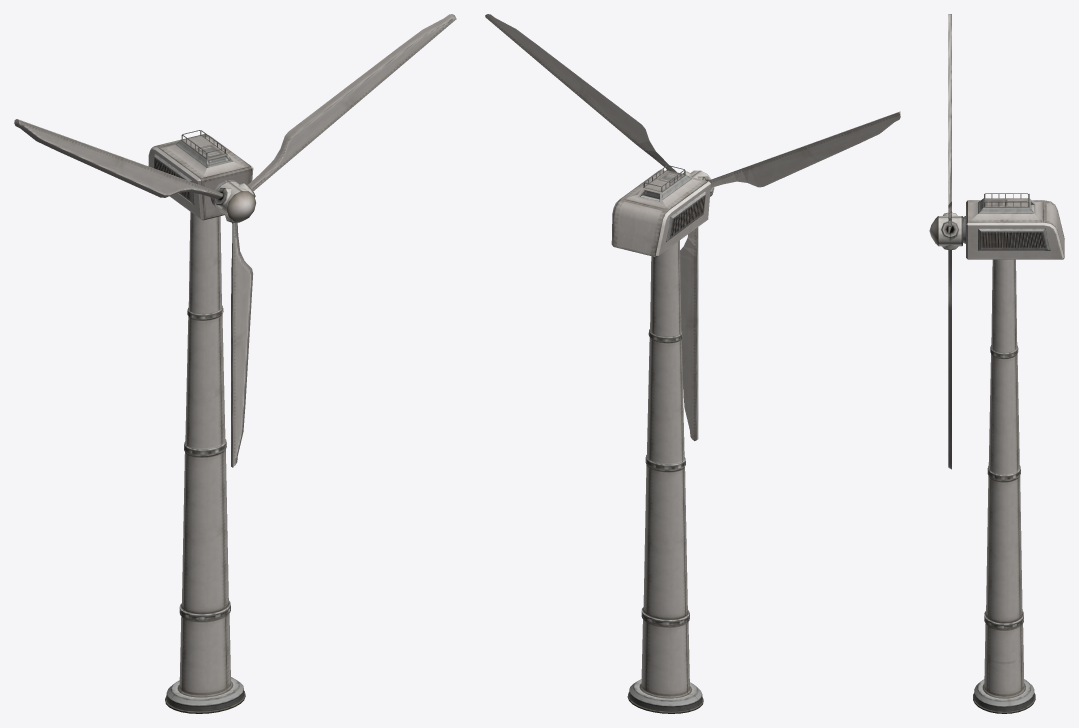
File: windturbine90.obj
3 views of the same model, side by side, from view 1: azimuth 30°, elevation 25°; view 2: azimuth 150°, elevation 25°; view 3: azimuth 270°, elevation 25° (orthographic). The views are drawn at different scales.
Visible parts, largest first — view 1: Turbine_Main, Turbine_Fan; view 2: Turbine_Main, Turbine_Fan; view 3: Turbine_Main, Turbine_Fan.
Part boxes in pixels (box(x1,y1,x2,y2)): Turbine_Main: box(148, 130, 253, 713); Turbine_Fan: box(14, 14, 456, 467); Turbine_Main: box(611, 165, 710, 713); Turbine_Fan: box(485, 14, 900, 440); Turbine_Main: box(963, 193, 1064, 713); Turbine_Fan: box(929, 14, 962, 469).
Bounding box in the file's own units: 160 × 227 × 47.26.
